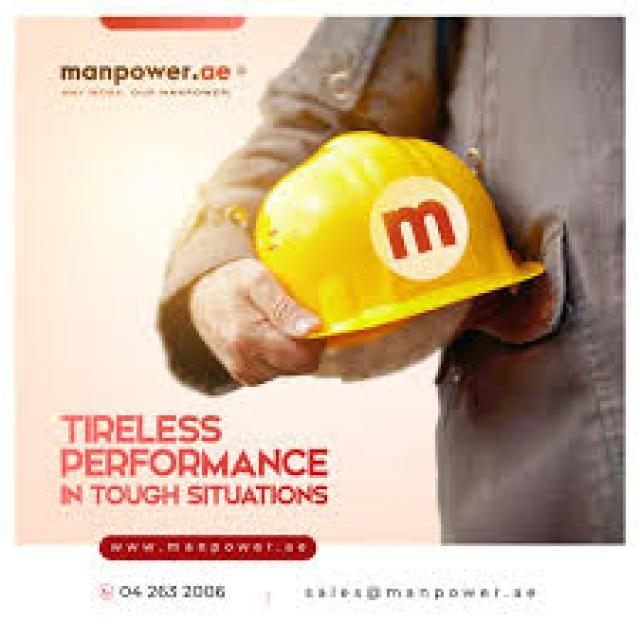Safety-Helmet: (244, 128, 552, 347)
